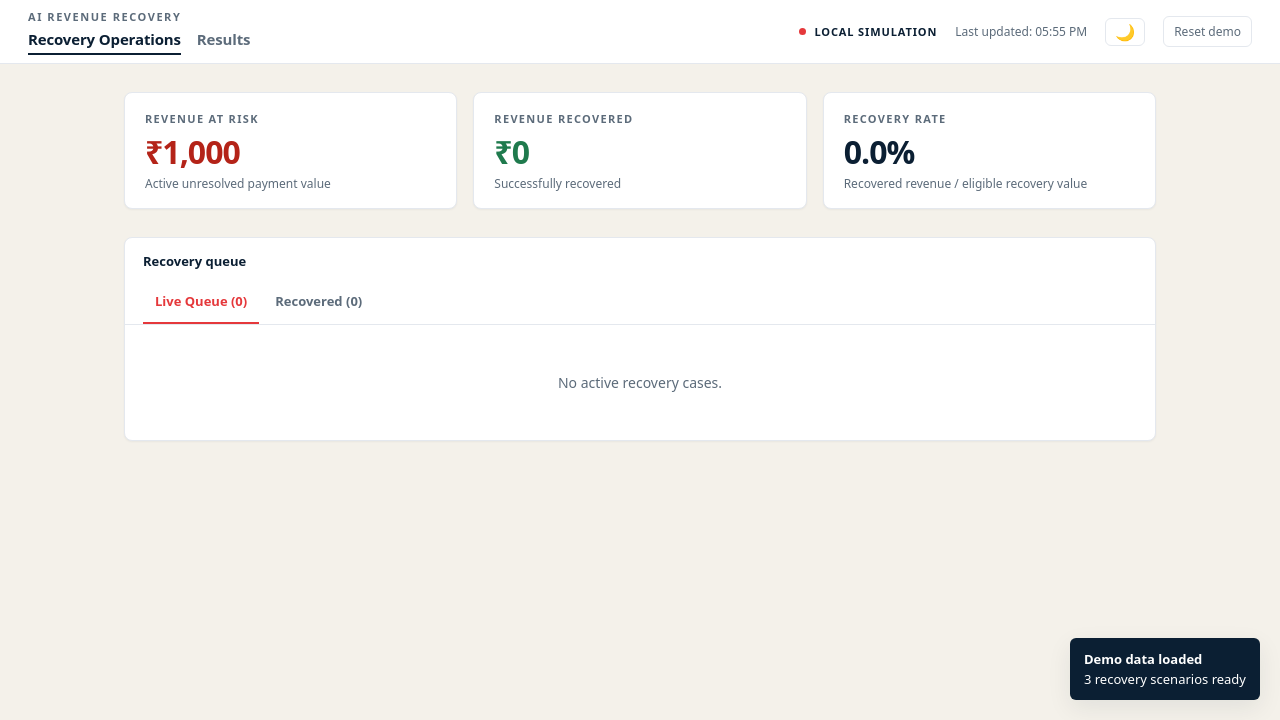
it: App View Switching and Results Page › fetches /api/baseline-comparison gracefully on API failure
The image size is (1280, 720).
Click the button "Results": (224, 42) left=197, top=28, right=250, bottom=54
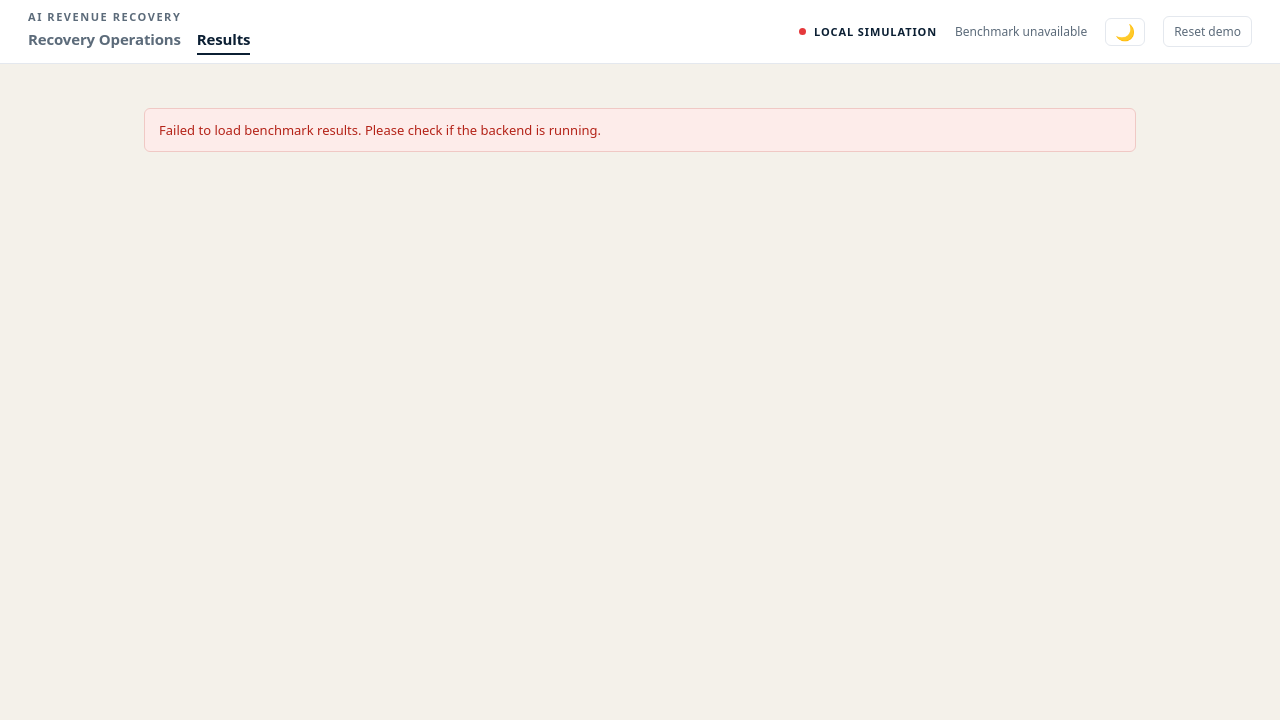
Result: the message shows "Failed to load benchmark results" at left=159, top=121, right=601, bottom=139
Note: Ensure app didn't crash and we can navigate back
Click the button "Recovery Operations": (104, 42) left=28, top=28, right=181, bottom=54
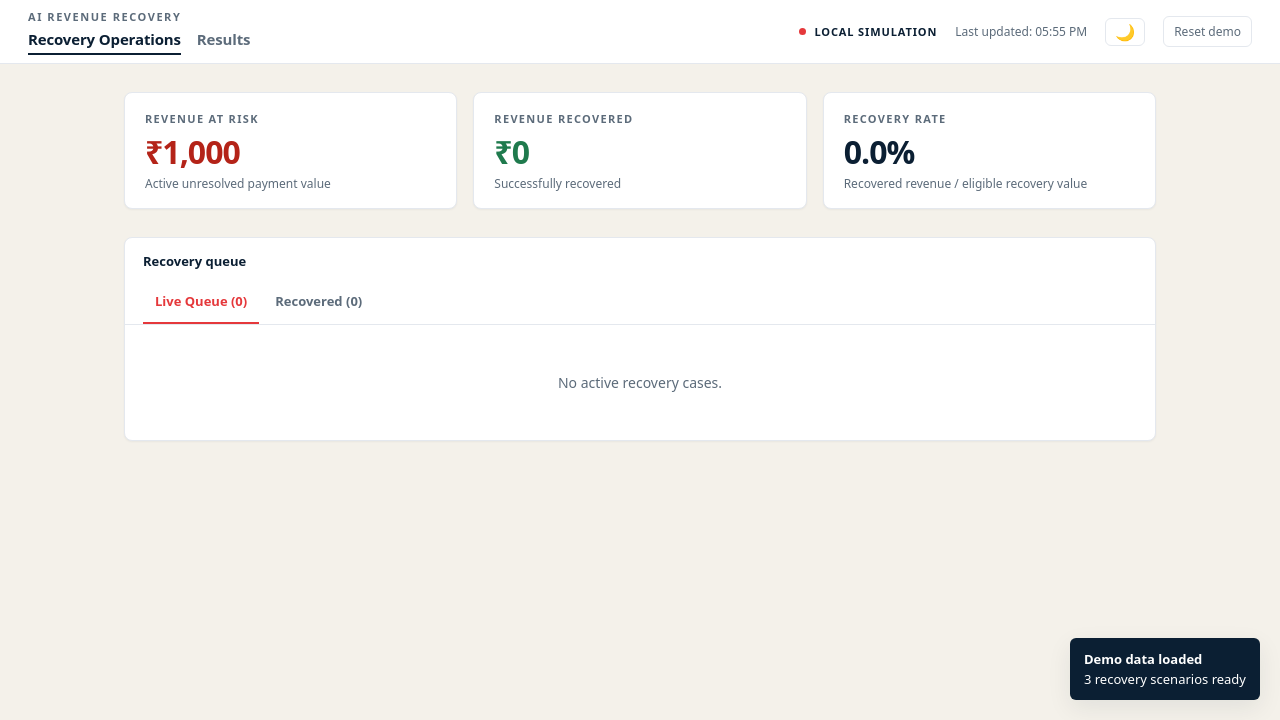
Result: the heading "Recovery queue" is shown at left=143, top=252, right=246, bottom=270
